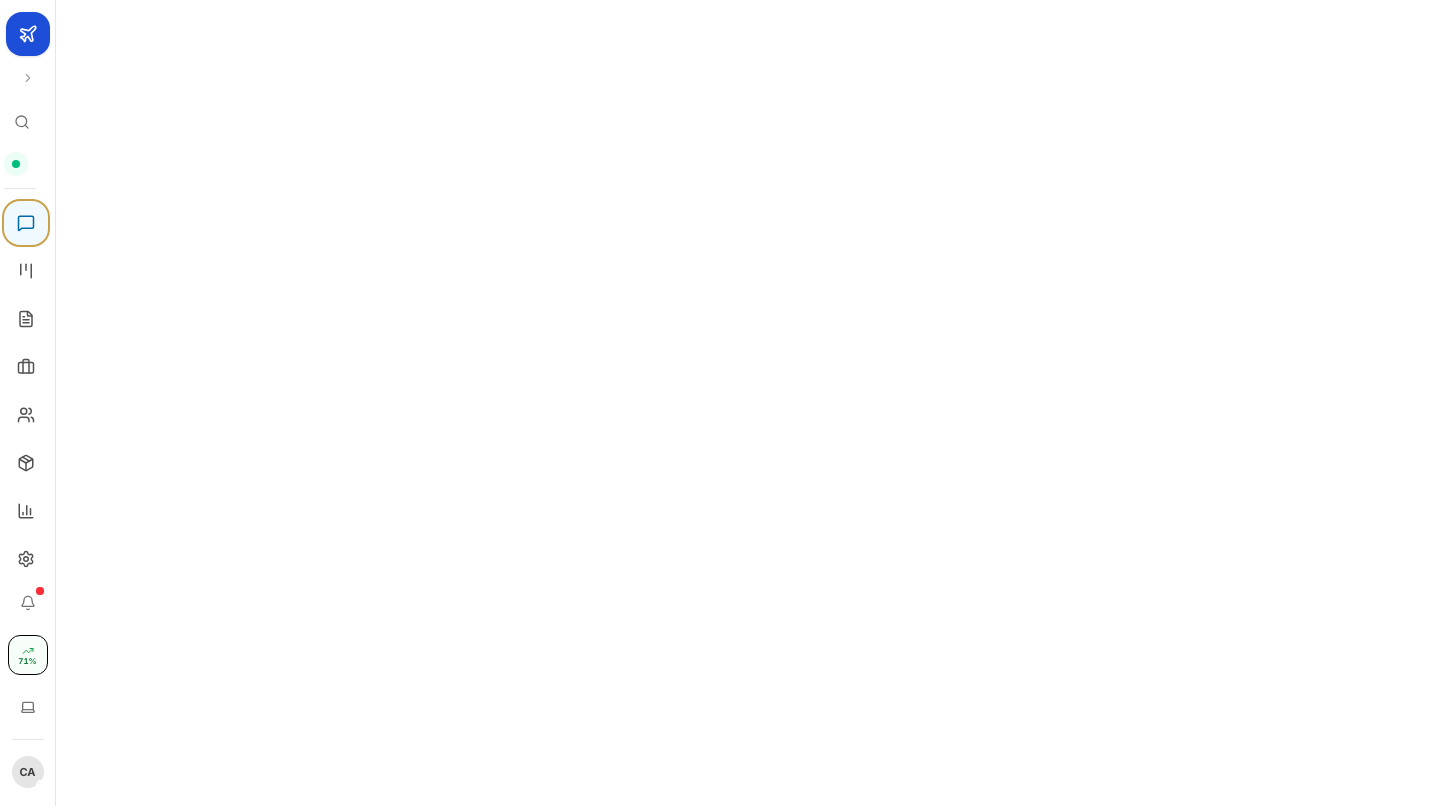
Test: BarraModulos y Selector de Sesión (ADR-0011) › Interacción con Menú de Sesión y Perfil › abre el diálogo de sesión al pulsar el avatar de escritorio
Click the button with test id "boton-avatar-sesion" at {"x": 28, "y": 772}, box x1=6 y1=750 x2=50 y2=794
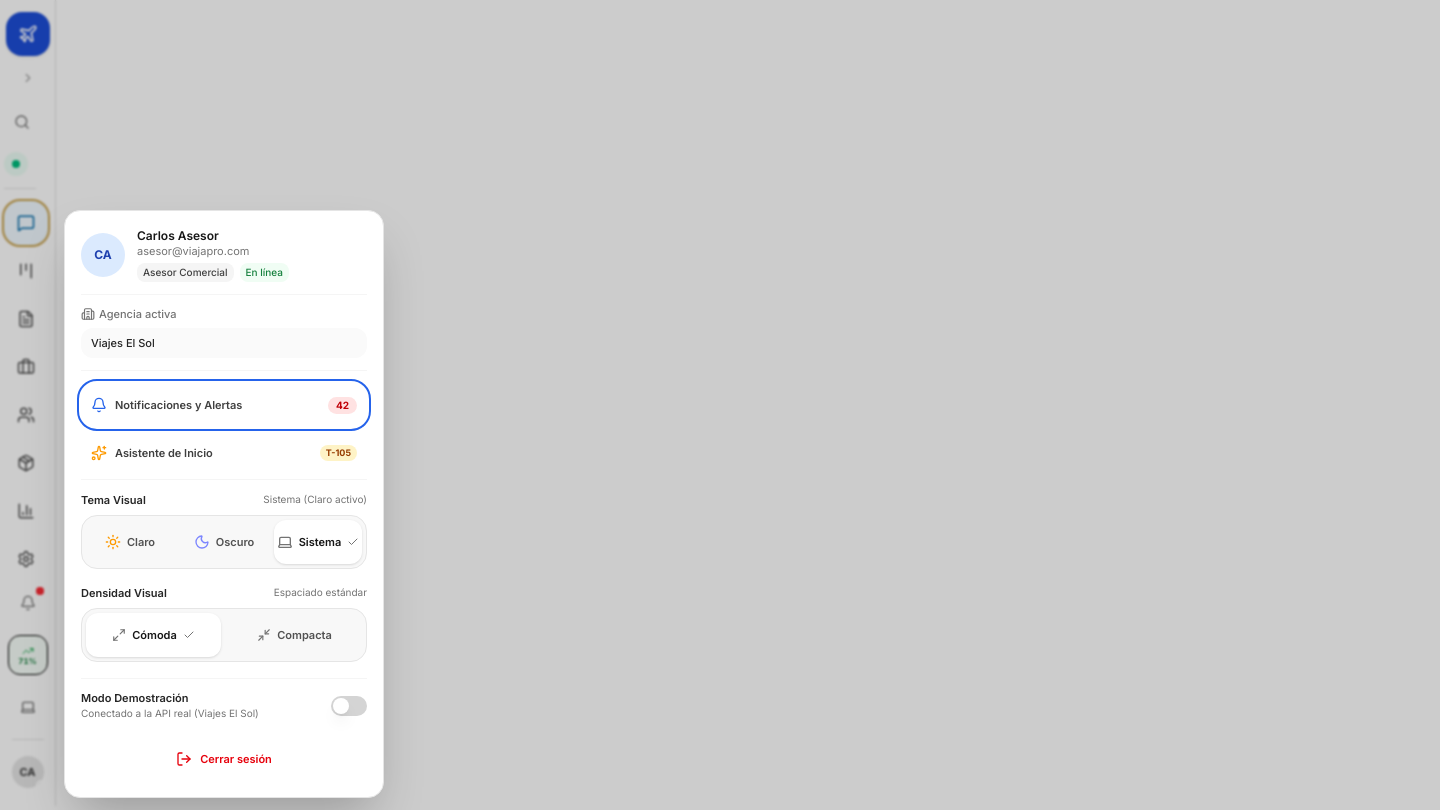
Now the dialog with test id "dialogo-perfil-sesion" is shown, box x1=64 y1=210 x2=384 y2=798
Now the text with test id "nombre-usuario-sesion" reads "Carlos Asesor", box x1=137 y1=228 x2=219 y2=243
Now the text with test id "correo-usuario-sesion" reads "asesor@viajapro.com", box x1=137 y1=244 x2=249 y2=258
